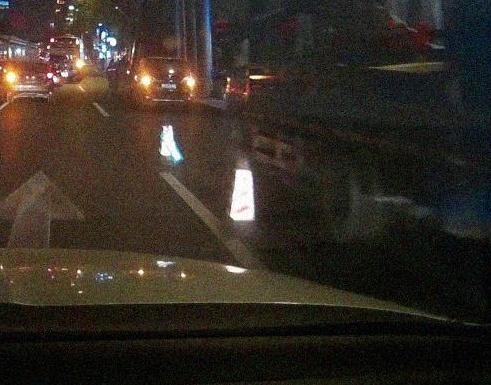L_light: (141, 75, 152, 85), (7, 71, 16, 82)
R_light: (186, 77, 195, 87), (46, 73, 53, 83)
T_light: (160, 59, 168, 62), (26, 63, 33, 65)
night-left: (7, 61, 53, 103)
night-no: (141, 57, 196, 111)
